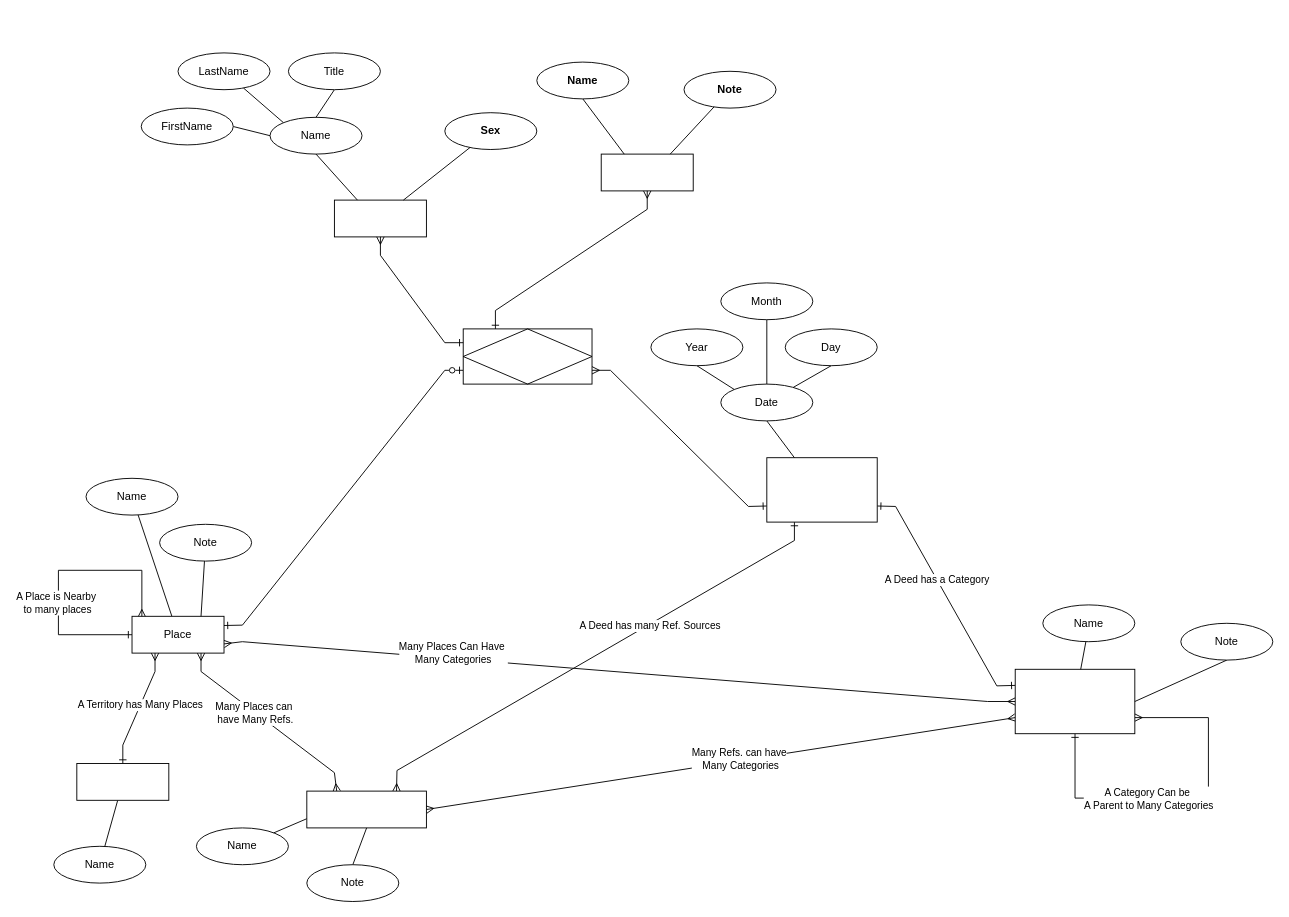
Some shapes in this 1289 by 917 pixel diagram are drawn without their labels. The centre of each missing label's shape, as x and y in pixels:
"Asset" belongs at point (527, 356).
"Category" belongs at point (1074, 701).
"Deed" belongs at point (821, 489).
"Other Goods" belongs at point (646, 172).
"Person" belongs at point (380, 218).
"Reference_Source" belongs at point (366, 809).
"Territory (Parish)" belongs at point (122, 781).
